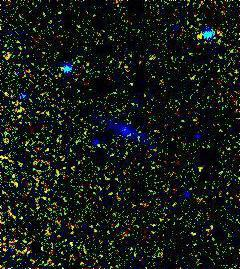star: (182, 23, 212, 53)
